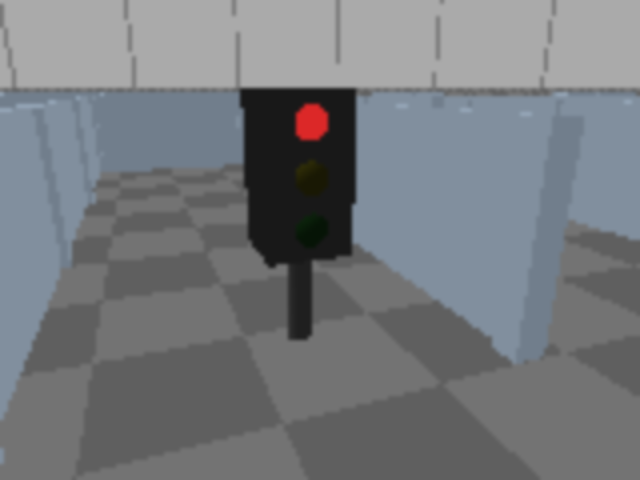traffic_light: (240, 71, 357, 364)
